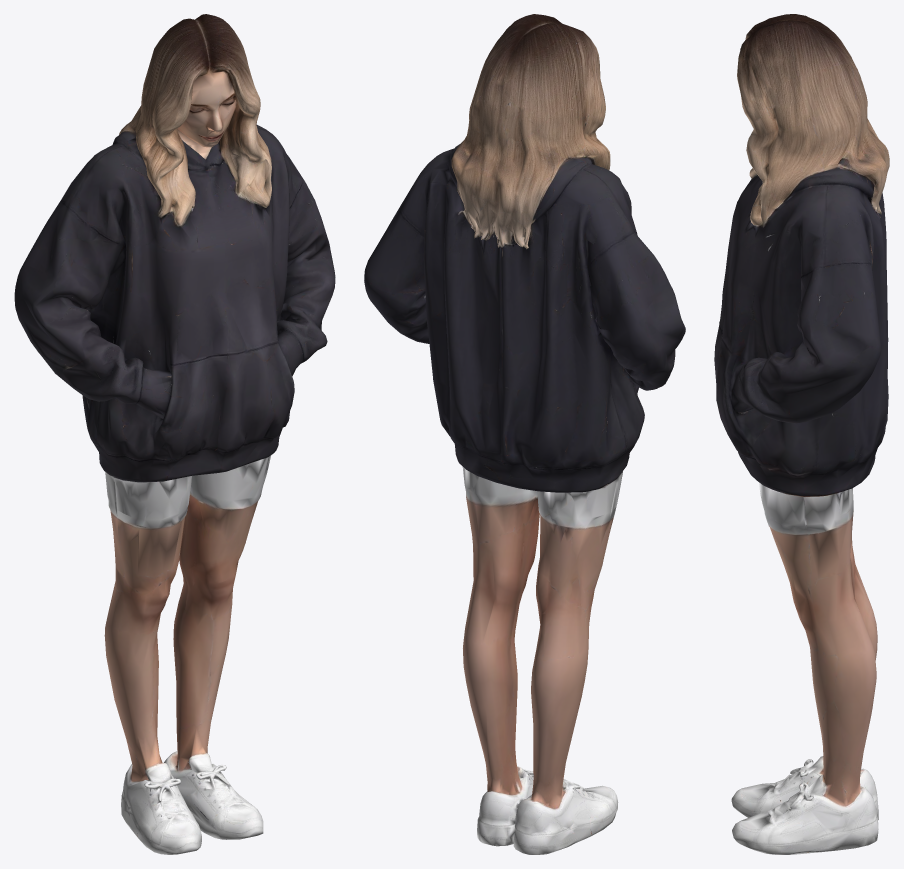
The model's file is hoodie.glb.
The picture shows the model from 3 angles, left to right: view 1: azimuth 30°, elevation 25°; view 2: azimuth 150°, elevation 25°; view 3: azimuth 270°, elevation 25°; orthographic projection. The views are drawn at different scales.
Bounding box in the file's own units: 0.7388 × 1.9 × 0.3698.
Materials: 1 (1 with a texture image).
